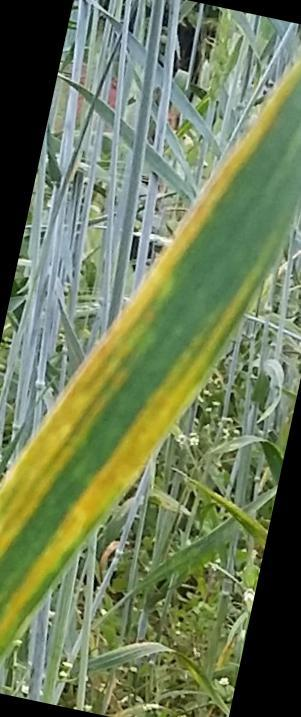Wheat: (8, 343, 201, 635), (3, 236, 179, 549)
